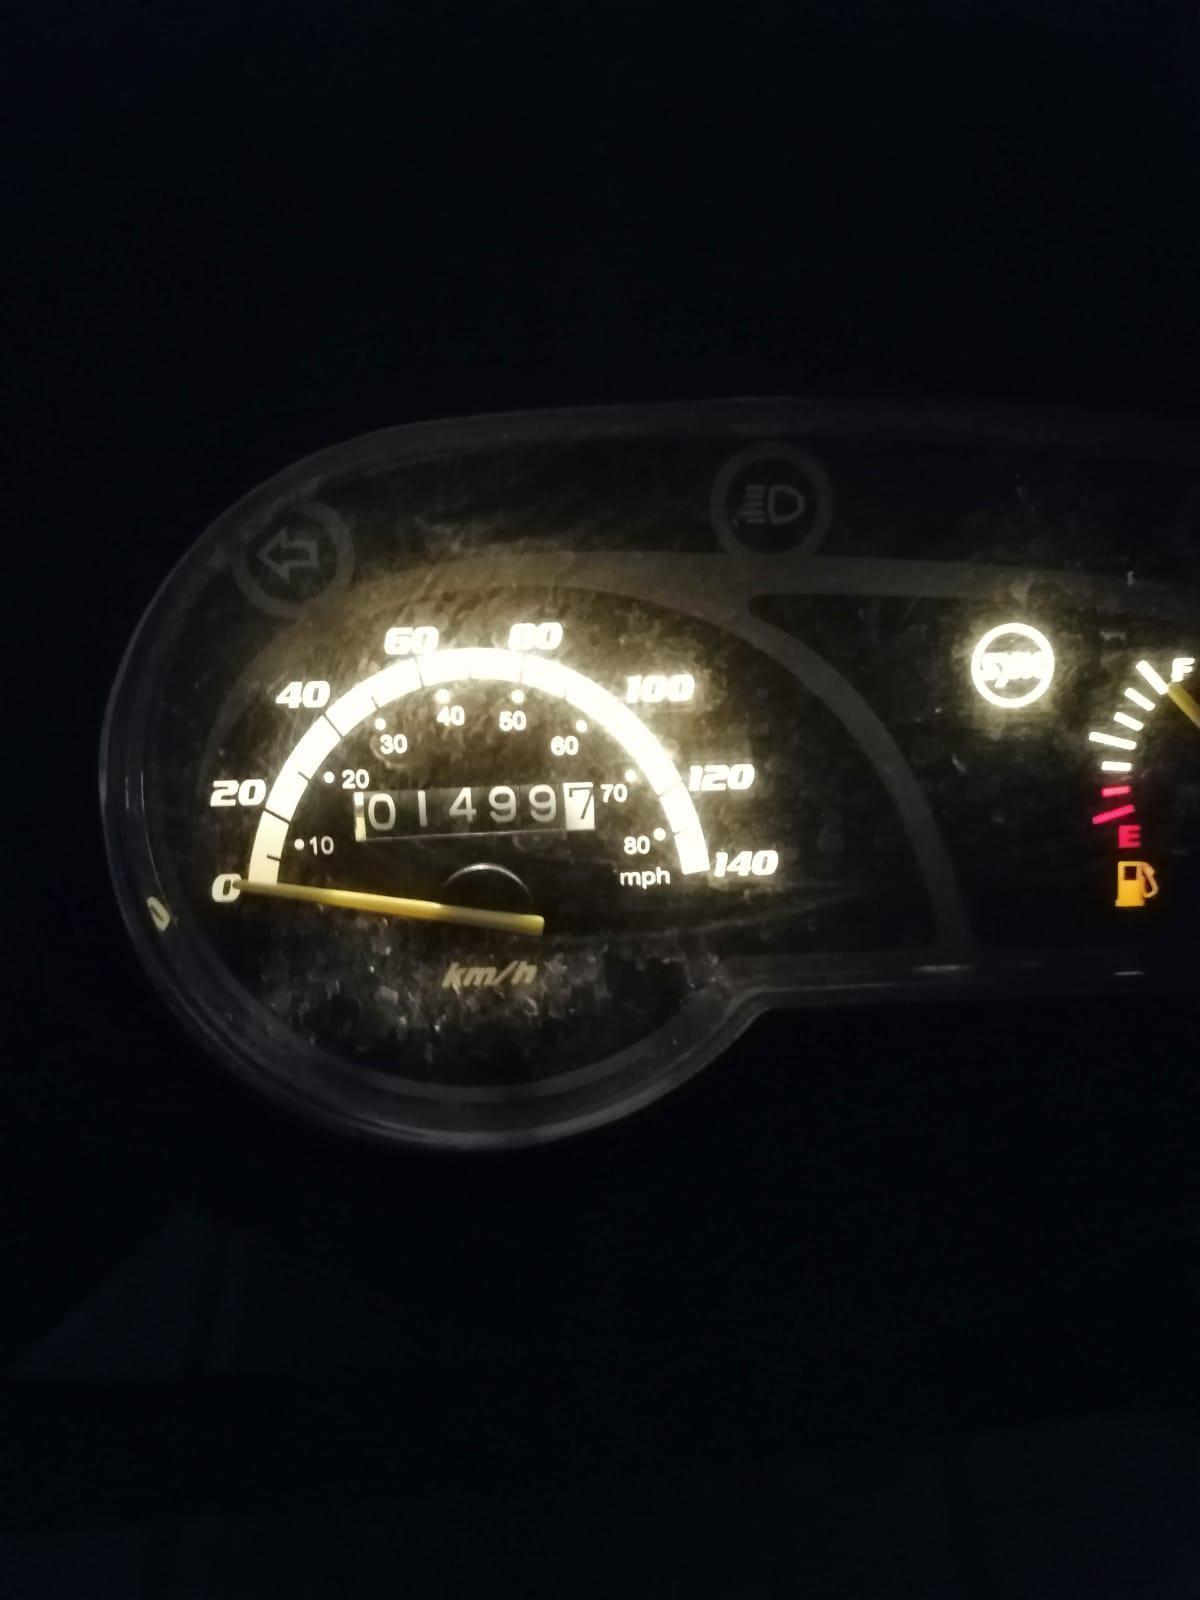0: (366, 791, 400, 833)
1: (412, 787, 432, 830)
4: (445, 784, 479, 824)
7: (567, 784, 597, 823)
9: (487, 784, 518, 824), (528, 784, 557, 824)
odometer: (345, 781, 601, 844)
